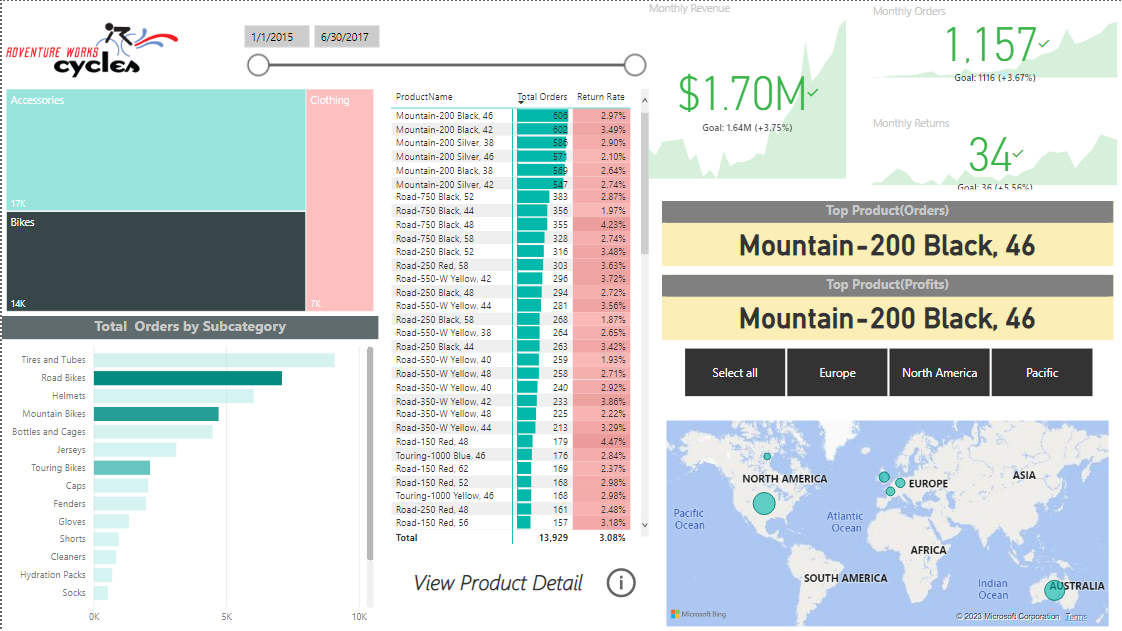

The page's visual inventory and layout, read from the dashboard file:
{"tool":"powerbi","page":{"name":"Exec Summary","canvas":[1280,720],"ordinal":0},"visuals":[{"type":"image","box":[0,0,208,112],"z":0},{"type":"barChart","title":"Total  Orders by Subcategory","fields":{"Y":["AW_Sales.Total Orders"],"Category":["AW_Product_Subcategory_Lookup.SubcategoryName"]},"box":[0,360,430,360],"z":1000},{"type":"treemap","title":"Total  Orders by Category","fields":{"Group":["AW_Product_Category_Lookup.CategoryName","AW_Product_Subcategory_Lookup.SubcategoryName"],"Values":["AW_Sales.Total Orders"]},"box":[0,96,430,264],"z":2000},{"type":"pivotTable","fields":{"Values":["AW_Sales.Total Orders","AW_Returns.Return Rate"],"Rows":["AW_Product_Category_Lookup.CategoryName","AW_Product_Subcategory_Lookup.SubcategoryName","AW_Product_Lookup.ProductName"]},"box":[440,95.7,304.3,530],"z":3000},{"type":"slicer","fields":{"Values":["AW_Calendar_Lookup.Date"]},"box":[264.3,17.1,480,75.7],"z":4000},{"type":"kpi","title":"Monthly Revenue ","fields":{"Indicator":["AW_Sales.Total Revenue"],"TrendLine":["AW_Calendar_Lookup.Start of Month"],"Goal":["AW_Sales.Prev Month Revenue"]},"box":[734.3,0,235.7,208.6],"z":5000},{"type":"kpi","title":"Monthly Orders ","fields":{"TrendLine":["AW_Calendar_Lookup.Start of Month"],"Indicator":["AW_Sales.Total Orders"],"Goal":["AW_Sales.Prev Month Orders"]},"box":[990,2.9,290,90],"z":6000},{"type":"kpi","title":"Monthly Returns","fields":{"TrendLine":["AW_Calendar_Lookup.Start of Month"],"Indicator":["AW_Returns.Total Returns"],"Goal":["AW_Returns.Prev Month Returns"]},"box":[990,131.4,290,84.3],"z":7000},{"type":"card","title":"Top Product(Orders)","fields":{"Values":["Min(AW_Product_Lookup.ProductName)"]},"box":[754.3,228.6,515.7,74.3],"z":8000},{"type":"card","title":"Top Product(Profits)","fields":{"Values":["Min(AW_Product_Lookup.ProductName)"]},"box":[754.3,312.9,515.7,74.3],"z":9000},{"type":"map","fields":{"Category":["AW_Territories_Lookup.Country"],"Size":["AW_Sales.Total Orders"]},"box":[754.3,474.3,515.7,245.7],"z":10000},{"type":"slicer","fields":{"Values":["AW_Territories_Lookup.Continent"]},"box":[754.3,390,515.7,68.6],"z":11000},{"type":"textbox","box":[464.3,642.9,208.6,47.1],"z":12000},{"type":"actionButton","box":[685.7,642.9,48.6,44.3],"z":13000}]}

Visuals, with their boxes in screenshot pixels (x1, y1, x2, y2), scaled from the page's 1280x720 canvas onto the 1122x631 screenshot:
image: BBox(0, 0, 182, 98)
"Total  Orders by Subcategory" barChart: BBox(0, 316, 377, 630)
"Total  Orders by Category" treemap: BBox(0, 84, 377, 316)
pivotTable - AW_Sales.Total Orders x AW_Returns.Return Rate: BBox(386, 84, 652, 548)
slicer - AW_Calendar_Lookup.Date: BBox(232, 15, 652, 81)
"Monthly Revenue " kpi: BBox(644, 0, 850, 183)
"Monthly Orders " kpi: BBox(868, 3, 1121, 81)
"Monthly Returns" kpi: BBox(868, 115, 1121, 189)
"Top Product(Orders)" card: BBox(661, 200, 1113, 265)
"Top Product(Profits)" card: BBox(661, 274, 1113, 339)
map - AW_Territories_Lookup.Country x AW_Sales.Total Orders: BBox(661, 416, 1113, 630)
slicer - AW_Territories_Lookup.Continent: BBox(661, 342, 1113, 402)
textbox: BBox(407, 563, 590, 605)
actionButton: BBox(601, 563, 644, 602)
